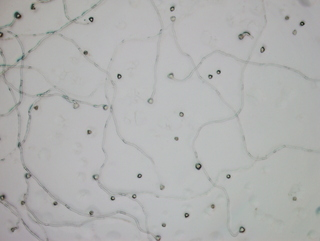germinated: (10, 11, 22, 27), (67, 96, 79, 109), (237, 30, 251, 41), (148, 230, 162, 241), (167, 72, 182, 82), (0, 194, 12, 206), (91, 173, 102, 186), (94, 102, 108, 112), (231, 226, 245, 236), (169, 14, 178, 29), (146, 91, 156, 104), (23, 172, 32, 186), (80, 16, 94, 25), (10, 222, 21, 231)
nongerminated: (159, 219, 169, 230), (80, 47, 90, 56), (258, 44, 267, 53), (172, 133, 181, 142), (194, 162, 203, 171), (224, 171, 233, 180), (182, 210, 191, 219), (115, 71, 124, 80), (168, 3, 177, 12), (290, 28, 298, 37), (177, 110, 185, 119), (158, 182, 167, 190), (85, 127, 94, 135), (32, 103, 40, 112), (130, 192, 139, 200), (51, 200, 59, 209), (206, 72, 214, 80), (136, 172, 144, 180), (87, 208, 95, 216), (299, 19, 306, 27), (283, 14, 291, 21), (215, 68, 223, 75), (209, 202, 217, 209), (109, 196, 117, 203), (19, 199, 27, 206), (291, 196, 299, 203)
